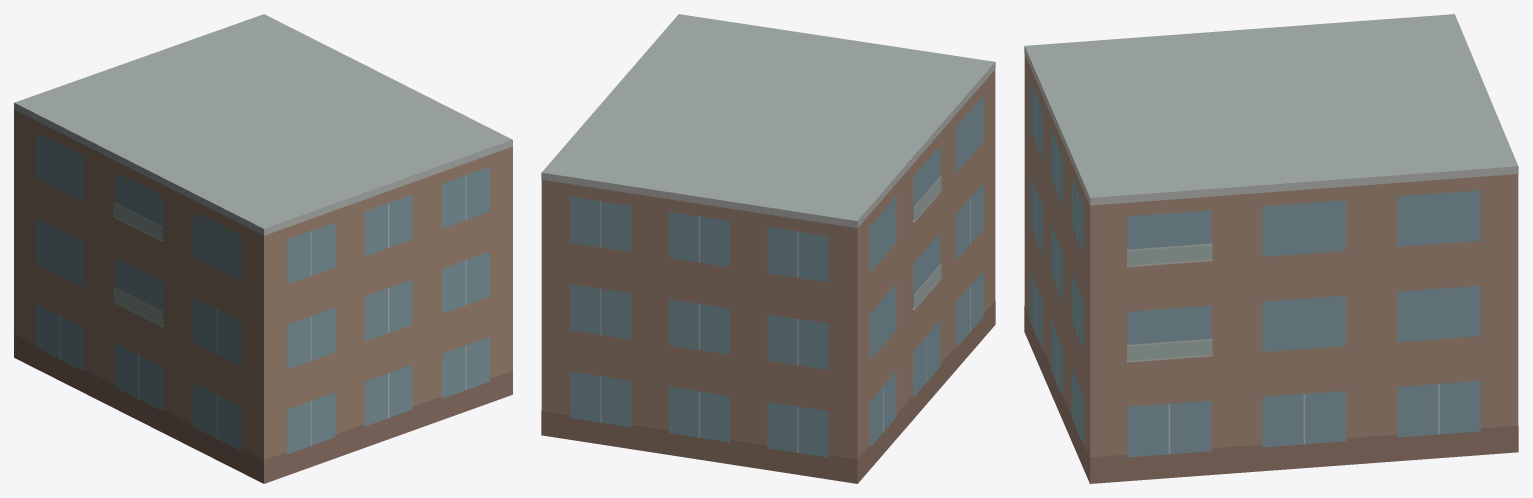
The model's file is survey-upis-32708130.glb.
3 views of the same model, side by side, from view 1: azimuth 30°, elevation 25°; view 2: azimuth 150°, elevation 25°; view 3: azimuth 270°, elevation 25° (orthographic). The views are drawn at different scales.
Parts seen in each view (by area): view 1: survey-upis-32708130.tmp; view 2: survey-upis-32708130.tmp; view 3: survey-upis-32708130.tmp.
Part boxes in pixels (x1,y1,x2,y2): survey-upis-32708130.tmp: (14,14,512,483); survey-upis-32708130.tmp: (541,14,995,483); survey-upis-32708130.tmp: (1024,14,1518,483).
Bounding box in the file's own units: 12.64 × 9.15 × 14.34.
